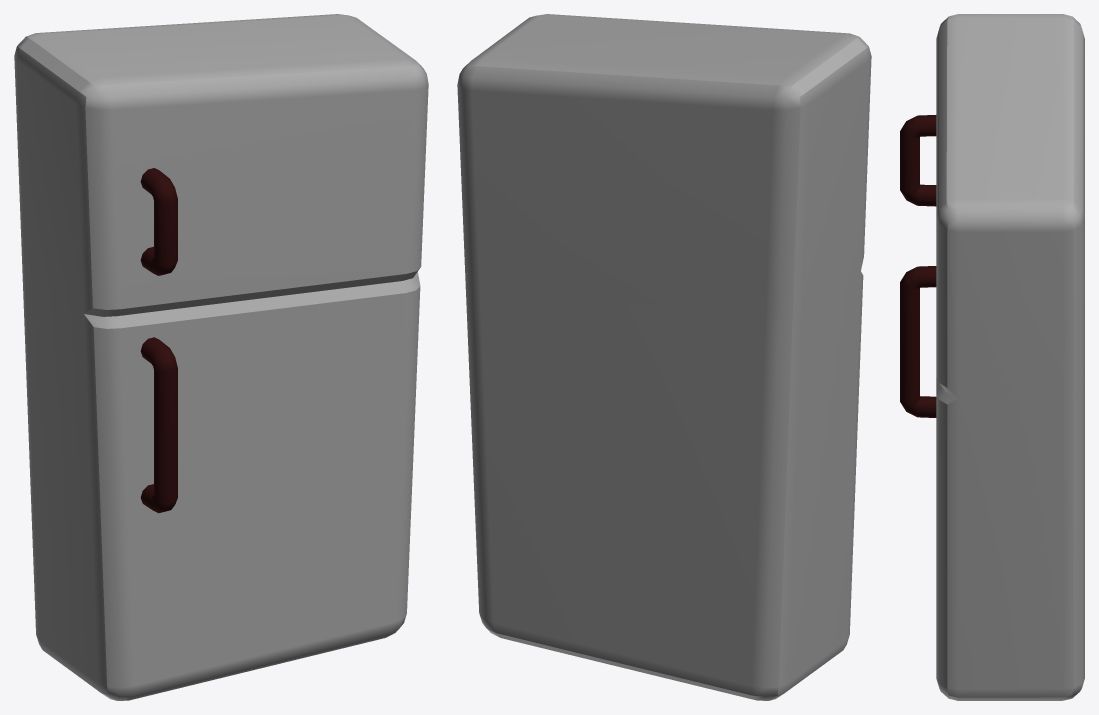
The model's file is Refrigerator_01.fbx.
3 renders of one model, left to right at view 1: azimuth 30°, elevation 25°; view 2: azimuth 150°, elevation 25°; view 3: azimuth 270°, elevation 25°, orthographic. The views are drawn at different scales.
Visible parts, largest first — view 1: pCube37; view 2: pCube37; view 3: pCube37.
Part boxes in pixels (x1,y1,x2,y2): pCube37: (14, 14, 428, 700); pCube37: (457, 14, 871, 700); pCube37: (900, 14, 1084, 700).
Size of the model in its own units: 2710 by 4640 by 1391.
